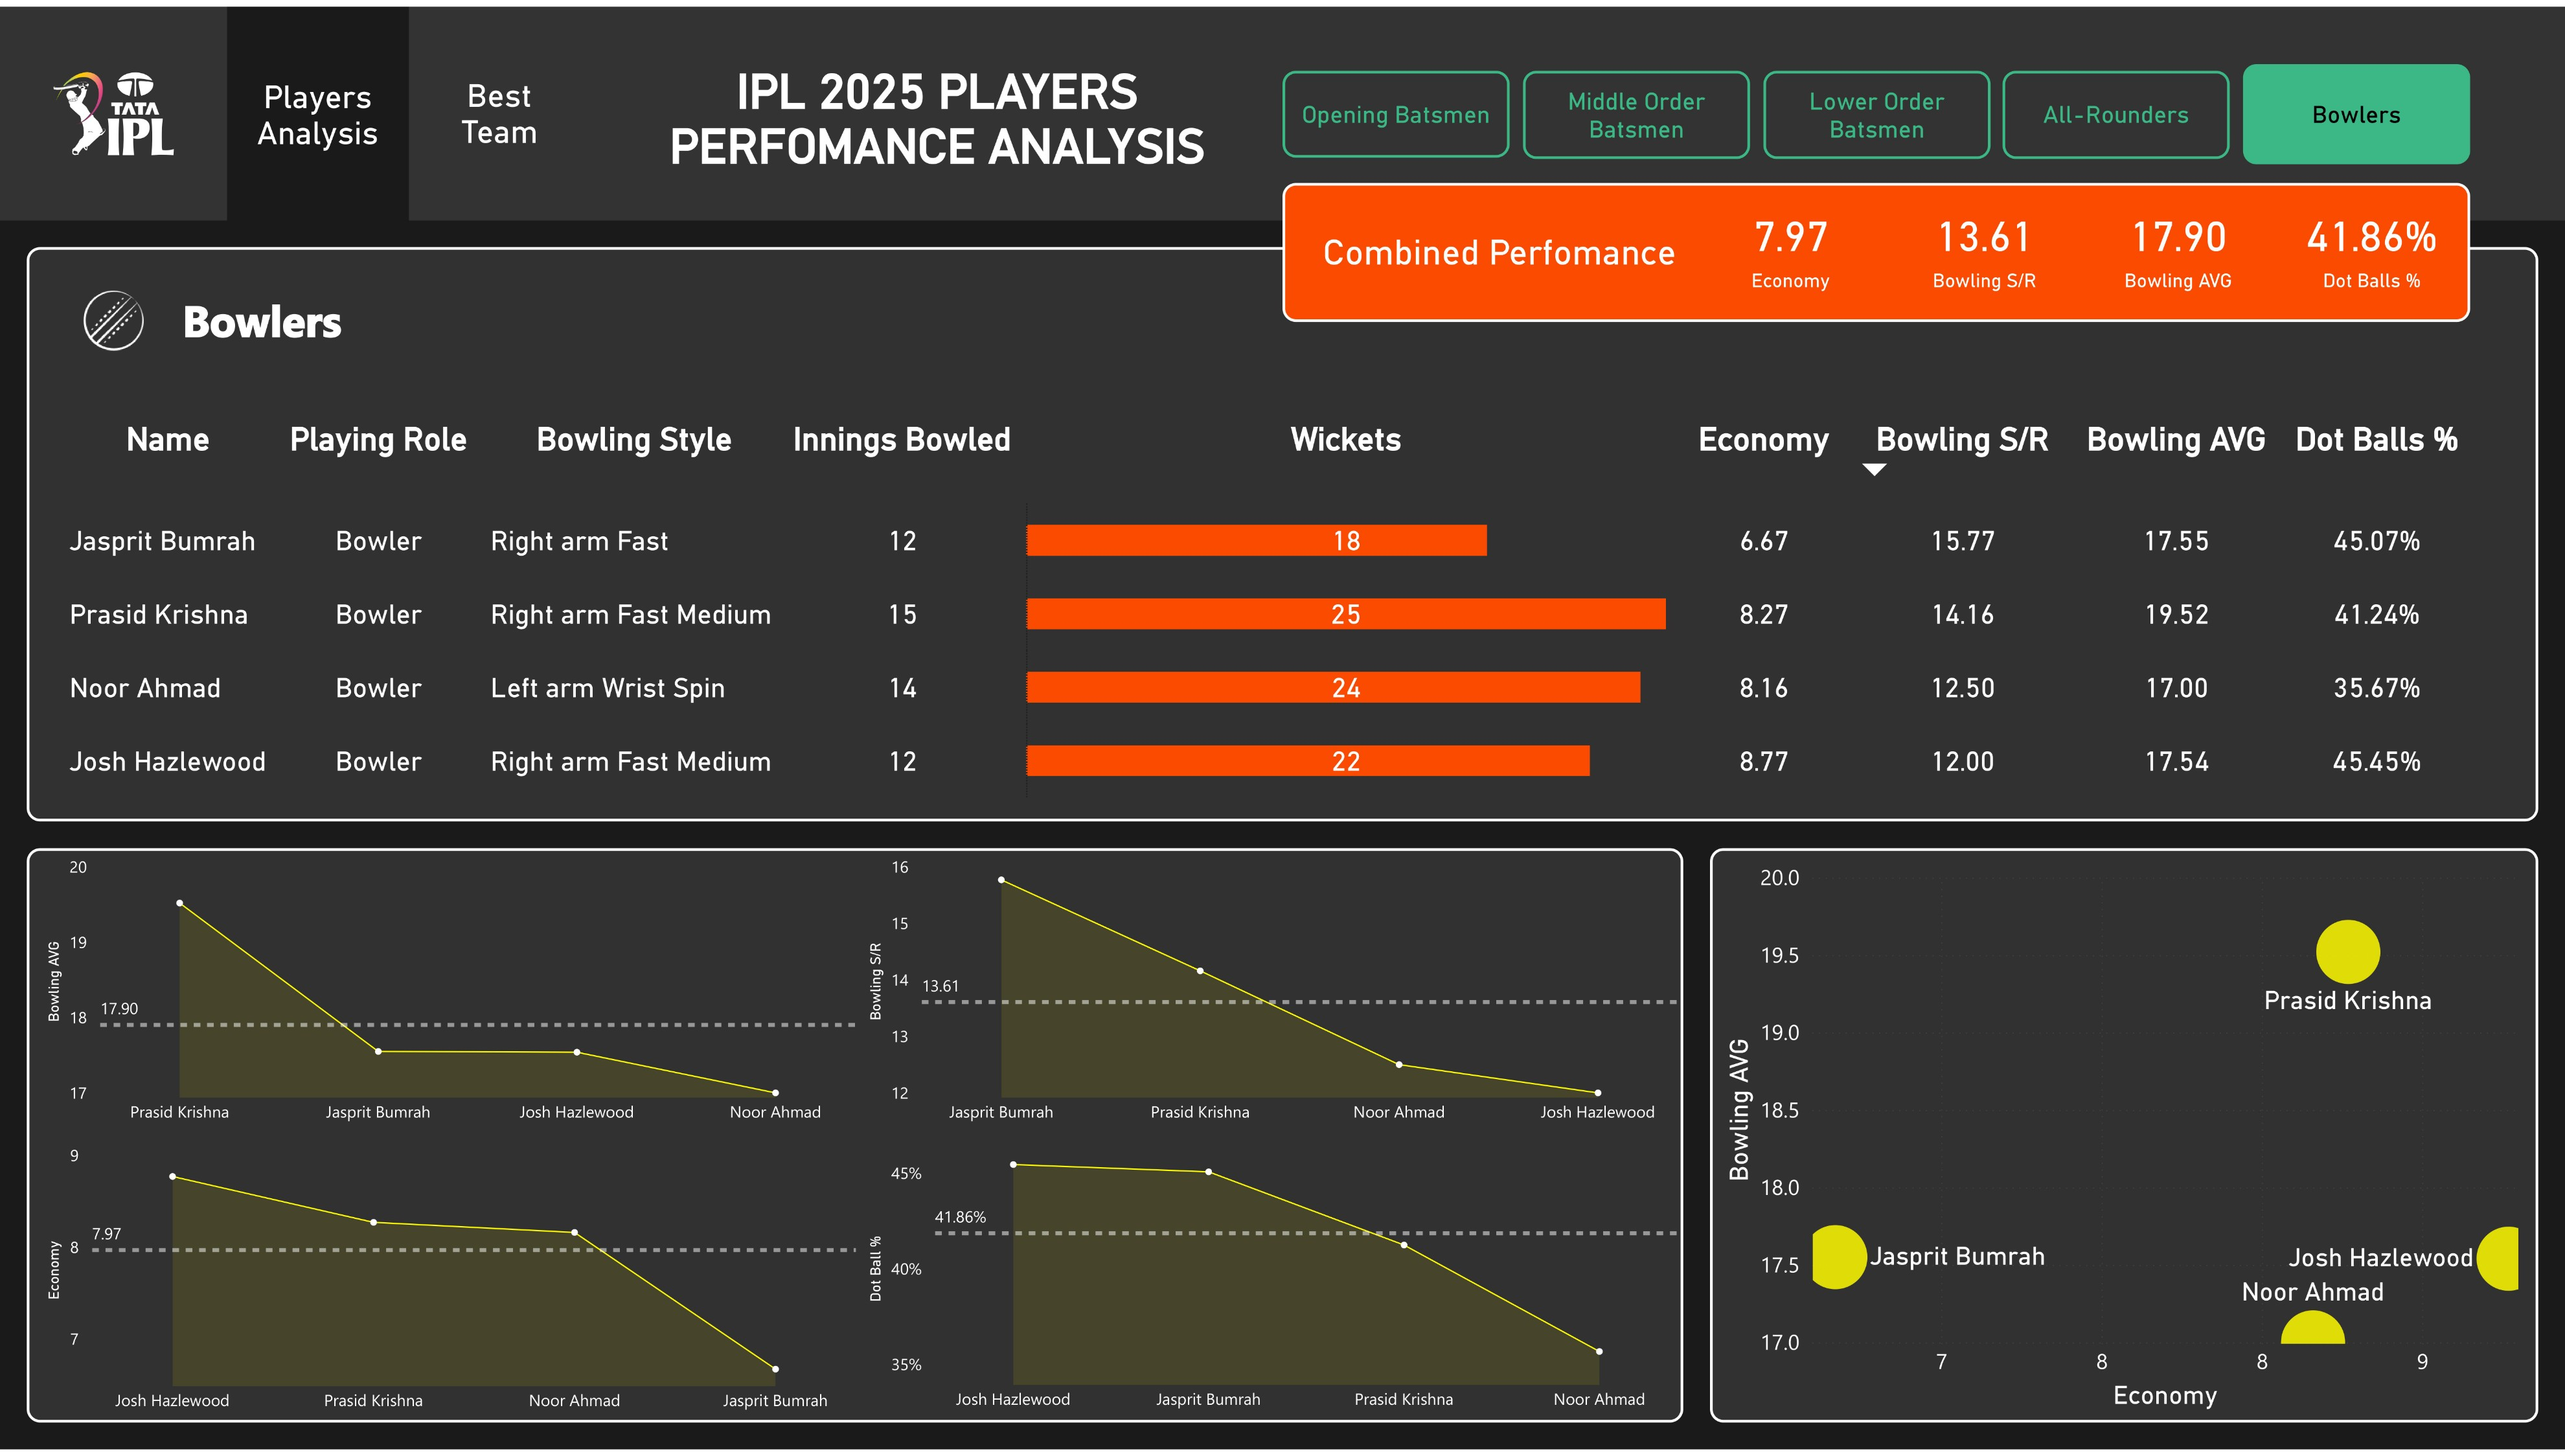

Layout of this report page (visuals, bound fields, positions):
{"tool":"powerbi","page":{"name":"Bowlers","canvas":[1920,1080],"ordinal":4},"visuals":[{"type":"shape","box":[960,132.2,889.3,103.5],"z":0,"group":"g1"},{"type":"shape","box":[20,630,1240,430],"z":0},{"type":"cardVisual","fields":{"Data":["Key_Measures.Bowling Economy","Key_Measures.Bowling Strike Rate","Key_Measures.Bowling Average","Key_Measures.Dot Balls %"]},"box":[1267.2,136,582.6,91.8],"z":1000,"group":"g1"},{"type":"shape","box":[20,180,1880,430],"z":1000},{"type":"shape","box":[962.7,155.9,319.2,53.2],"z":2000,"group":"g1"},{"type":"tableEx","fields":{"Values":["All_Players.Players Name","All_Players.Playing Role","All_Players.Bowling Style","Key_Measures.Total Innings Bowled","Key_Measures.Wickets","Key_Measures.Bowling Economy","Key_Measures.Bowling Strike Rate","Key_Measures.Bowling Average","Key_Measures.Dot Balls %"]},"box":[41.4,288.6,1858.6,321.4],"z":2000},{"type":"scatterChart","title":"Batting Average Vs Strike Rate","fields":{"Series":["All_Players.Players Name"],"Y":["Key_Measures.Bowling Average"],"X":["Key_Measures.Bowling Economy"]},"box":[1280,630,620,430],"z":3000},{"type":"areaChart","title":"Batting Average Vs Strike Rate","fields":{"Category":["All_Players.Players Name"],"Y":["Key_Measures.Bowling Average"]},"box":[30,630,615,215.7],"z":4000},{"type":"shape","box":[0,0,1920,160],"z":5000},{"type":"shape","box":[120,200,152.1,67.2],"z":6000},{"type":"shape","box":[442.9,7.1,517.1,152.9],"z":7000},{"type":"group","id":"g1","title":"Group 1","box":[960,132.2,889.8,103.5],"z":8000},{"type":"image","box":[35,30,100,100],"z":9000},{"type":"actionButton","box":[1140,48,170,65.7],"z":10000},{"type":"actionButton","box":[1320,48,170,65.7],"z":11000},{"type":"actionButton","box":[1678.6,43,170,75],"z":12000},{"type":"actionButton","box":[1498.6,48,170,65.7],"z":13000},{"type":"actionButton","box":[960,48,170,65],"z":14000},{"type":"actionButton","box":[306,0,135.7,160],"z":15000},{"type":"actionButton","box":[170,0,135.7,161],"z":16000},{"type":"areaChart","title":"Batting Average Vs Strike Rate","fields":{"Category":["All_Players.Players Name"],"Y":["Key_Measures.Bowling Strike Rate"]},"box":[645,630,615.7,215.7],"z":17000},{"type":"areaChart","title":"Batting Average Vs Strike Rate","fields":{"Category":["All_Players.Players Name"],"Y":["Key_Measures.Bowling Economy"]},"box":[30,845.7,615.7,215.7],"z":18000},{"type":"areaChart","title":"Batting Average Vs Strike Rate","fields":{"Category":["All_Players.Players Name"],"Y":["Key_Measures.Dot Balls %"]},"box":[645,845,615.7,215.7],"z":19000},{"type":"image","box":[55,205,60,60],"z":20002}]}

Visuals, with their boxes in screenshot pixels (x1, y1, x2, y2), scaled from the page's 1920x1080 canvas onto the 2565x1456 screenshot:
shape: bbox=(1282, 178, 2470, 318)
shape: bbox=(27, 849, 1683, 1429)
cardVisual - Key_Measures.Bowling Economy x Key_Measures.Bowling Strike Rate: bbox=(1693, 183, 2471, 307)
shape: bbox=(27, 243, 2538, 823)
shape: bbox=(1286, 210, 1713, 282)
tableEx - All_Players.Players Name x All_Players.Playing Role: bbox=(55, 389, 2538, 823)
"Batting Average Vs Strike Rate" scatterChart: bbox=(1710, 849, 2538, 1429)
"Batting Average Vs Strike Rate" areaChart: bbox=(40, 849, 861, 1140)
shape: bbox=(0, 0, 2564, 216)
shape: bbox=(161, 269, 363, 360)
shape: bbox=(591, 10, 1282, 216)
"Group 1" group: bbox=(1282, 178, 2471, 318)
image: bbox=(47, 40, 180, 176)
actionButton: bbox=(1523, 65, 1750, 154)
actionButton: bbox=(1763, 65, 1990, 154)
actionButton: bbox=(2242, 58, 2470, 159)
actionButton: bbox=(2002, 65, 2229, 154)
actionButton: bbox=(1282, 65, 1510, 152)
actionButton: bbox=(409, 0, 590, 216)
actionButton: bbox=(227, 0, 409, 217)
"Batting Average Vs Strike Rate" areaChart: bbox=(861, 849, 1684, 1140)
"Batting Average Vs Strike Rate" areaChart: bbox=(40, 1140, 863, 1431)
"Batting Average Vs Strike Rate" areaChart: bbox=(861, 1139, 1684, 1430)
image: bbox=(73, 277, 154, 358)
